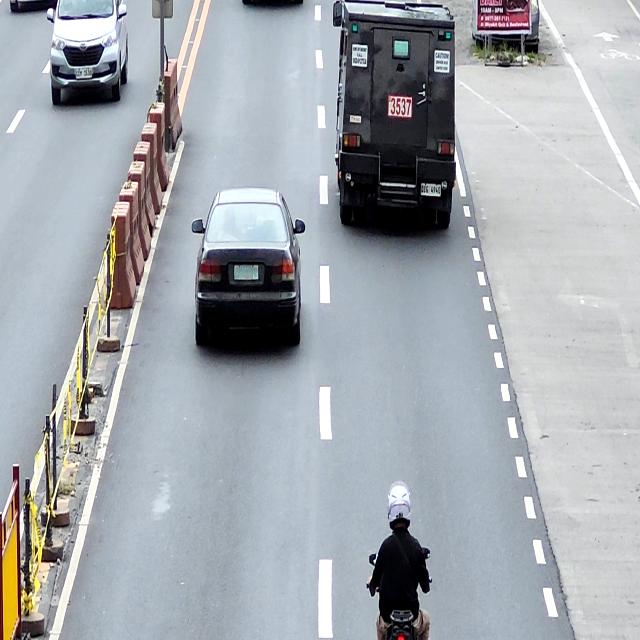Car: (333, 0, 458, 229), (192, 188, 306, 350), (46, 0, 128, 105)
License-Plate: (234, 266, 259, 280), (421, 183, 441, 198), (75, 69, 93, 80)
